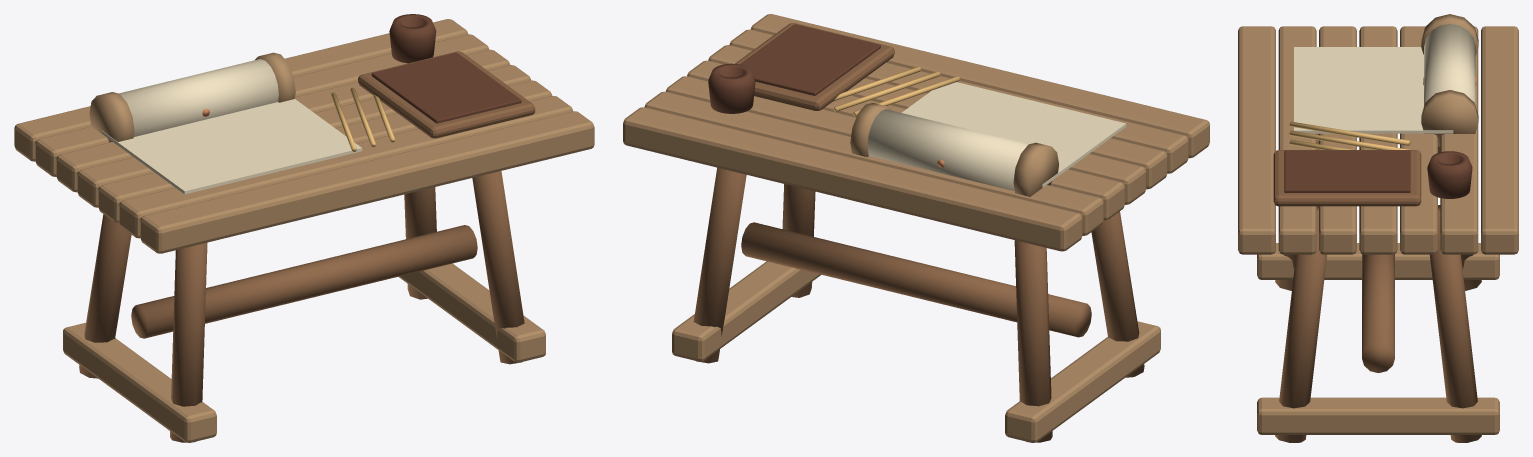
Rendered from writing-desk.glb.
3 views of the same model, side by side, from view 1: azimuth 30°, elevation 25°; view 2: azimuth 150°, elevation 25°; view 3: azimuth 270°, elevation 25° (orthographic). The views are drawn at different scales.
Parts seen in each view (by area): view 1: writing-desk__woodlight, writing-desk__wood, writing-desk__linen, writing-desk__slip, writing-desk__ochre; view 2: writing-desk__woodlight, writing-desk__wood, writing-desk__linen, writing-desk__slip, writing-desk__ochre; view 3: writing-desk__woodlight, writing-desk__wood, writing-desk__linen, writing-desk__slip, writing-desk__ochre.
Boxes of the visible parts, <box> form: writing-desk__woodlight: <box>14,19,594,442</box>; writing-desk__wood: <box>79,51,535,442</box>; writing-desk__linen: <box>102,59,362,194</box>; writing-desk__slip: <box>371,14,521,123</box>; writing-desk__ochre: <box>331,87,395,151</box>; writing-desk__woodlight: <box>623,14,1209,442</box>; writing-desk__wood: <box>693,23,1144,442</box>; writing-desk__linen: <box>867,82,1126,191</box>; writing-desk__slip: <box>708,24,880,113</box>; writing-desk__ochre: <box>833,66,959,116</box>; writing-desk__woodlight: <box>1238,14,1518,434</box>; writing-desk__wood: <box>1273,133,1481,442</box>; writing-desk__linen: <box>1294,24,1475,133</box>; writing-desk__slip: <box>1284,150,1472,198</box>; writing-desk__ochre: <box>1289,121,1410,149</box>.
Bounding box in the file's own units: 2.05 × 1.26 × 1.18.
